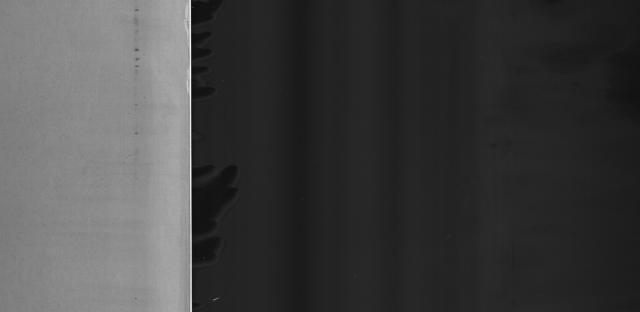oil_spot: (127, 6, 143, 111)
